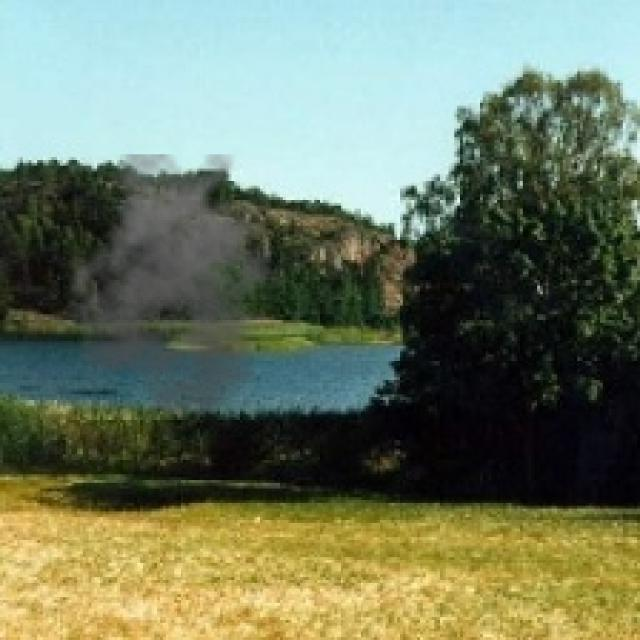Smoke: (57, 154, 300, 417)
